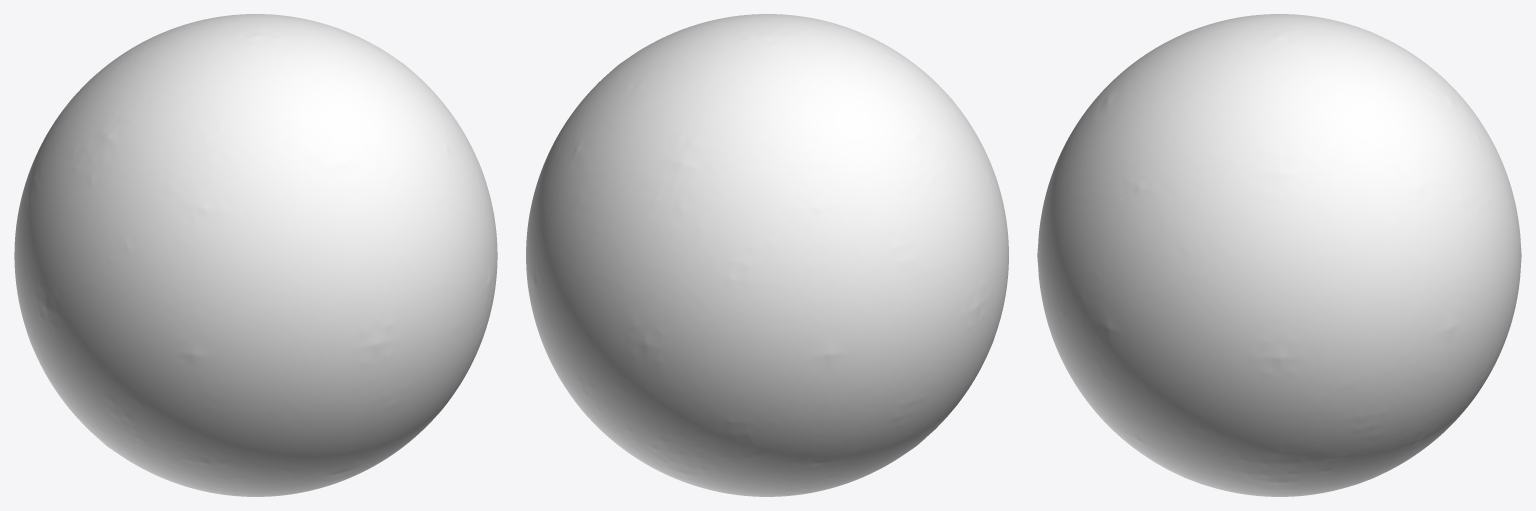
The model's file is sphere_white_opaque.glb.
3 renders of one model, left to right at view 1: azimuth 30°, elevation 25°; view 2: azimuth 150°, elevation 25°; view 3: azimuth 270°, elevation 25°, orthographic.
Size of the model in its own units: 1.9 by 1.9 by 1.9.
1 material, 1 textured.
